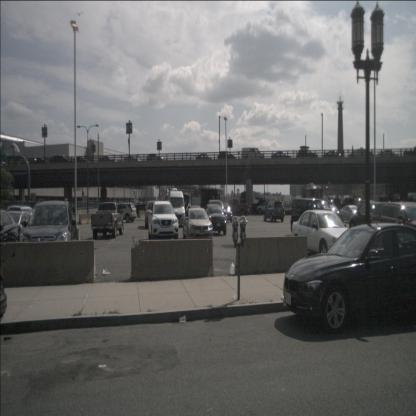human-pedestrian-adult: (352, 145, 354, 158)
vehicle-car: (282, 222, 415, 336), (19, 200, 77, 260), (291, 210, 353, 257), (370, 201, 416, 247), (290, 198, 336, 234), (148, 200, 178, 247), (349, 201, 390, 234), (1, 211, 38, 245), (0, 209, 22, 262), (182, 208, 214, 242), (7, 205, 38, 230), (206, 204, 226, 235), (168, 191, 185, 226), (111, 202, 137, 223), (206, 200, 228, 224), (264, 199, 286, 222), (145, 200, 161, 229), (339, 205, 362, 225), (241, 147, 265, 162), (255, 201, 277, 215), (218, 203, 233, 223), (348, 149, 374, 160), (322, 204, 340, 219), (296, 150, 318, 160), (218, 151, 236, 161), (271, 151, 290, 160), (146, 153, 164, 162), (322, 151, 341, 159), (53, 154, 68, 164), (196, 154, 214, 162), (74, 155, 88, 164), (124, 156, 140, 163), (98, 156, 112, 163)
vehicle-truck: (91, 202, 123, 239), (222, 199, 250, 217)
